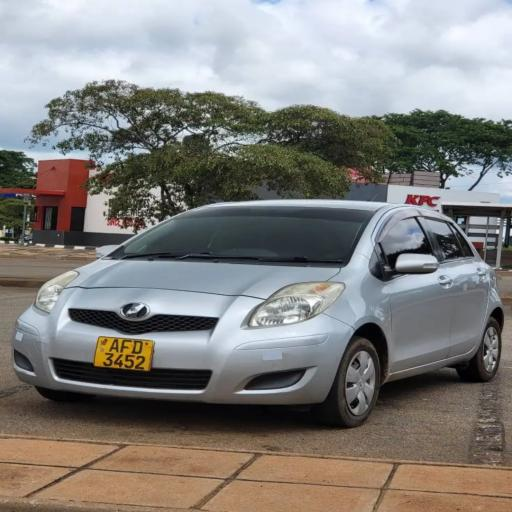number-plates: (96, 335, 154, 371)
